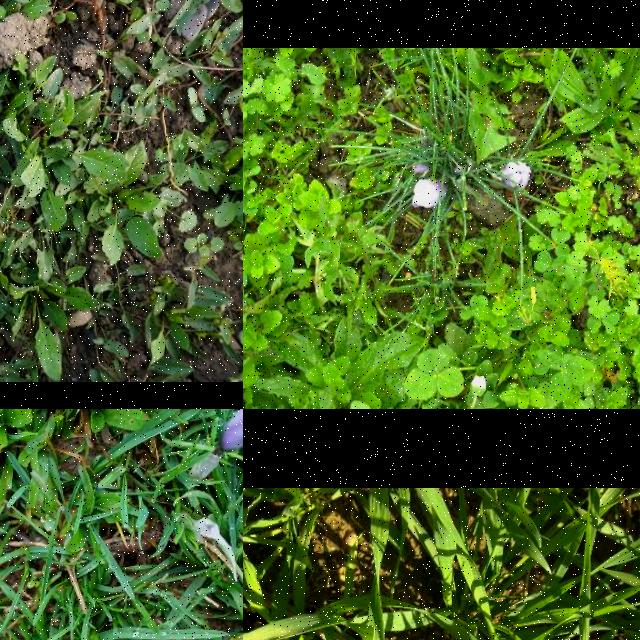flower: (217, 409, 243, 452), (412, 180, 448, 208), (501, 162, 532, 192)
